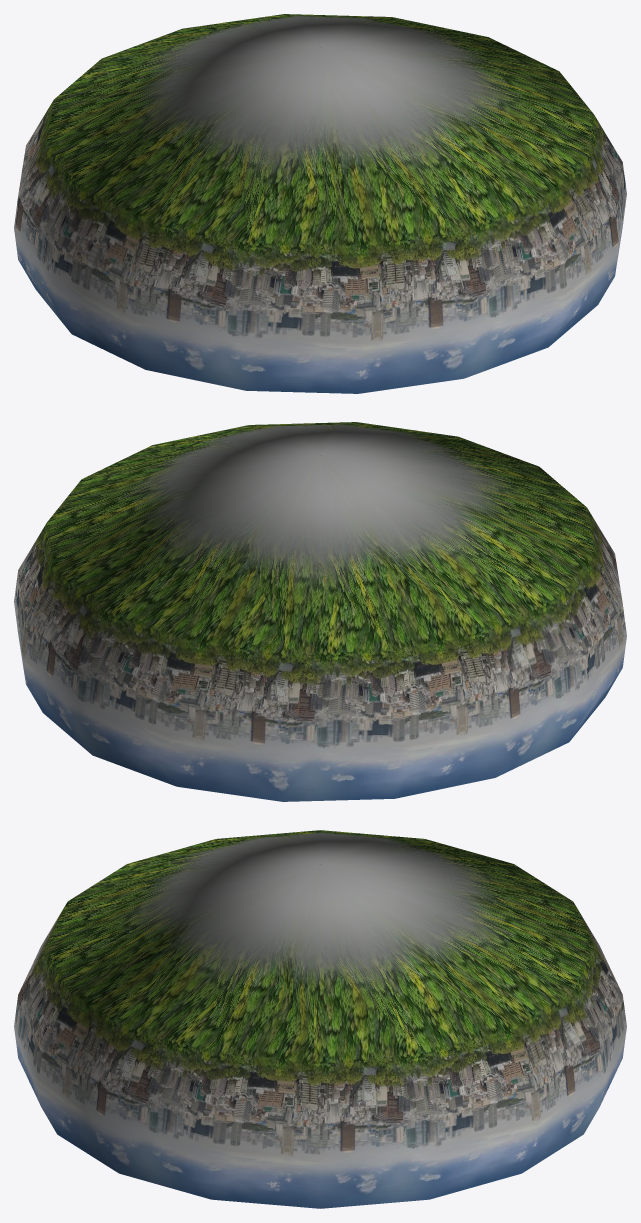
The model's file is Military_Base.glb.
3 views of the same model, one above another, from view 1: azimuth 30°, elevation 25°; view 2: azimuth 150°, elevation 25°; view 3: azimuth 270°, elevation 25° (orthographic).
Parts seen in each view (by area): view 1: Military_Base; view 2: Military_Base; view 3: Military_Base.
Boxes of the visible parts, bbox=[...] form: Military_Base: bbox=[14, 14, 626, 393]; Military_Base: bbox=[14, 422, 626, 801]; Military_Base: bbox=[14, 830, 626, 1208].
Size of the model in its own units: 942 by 385 by 942.
Materials: 17 (16 with a texture image).
